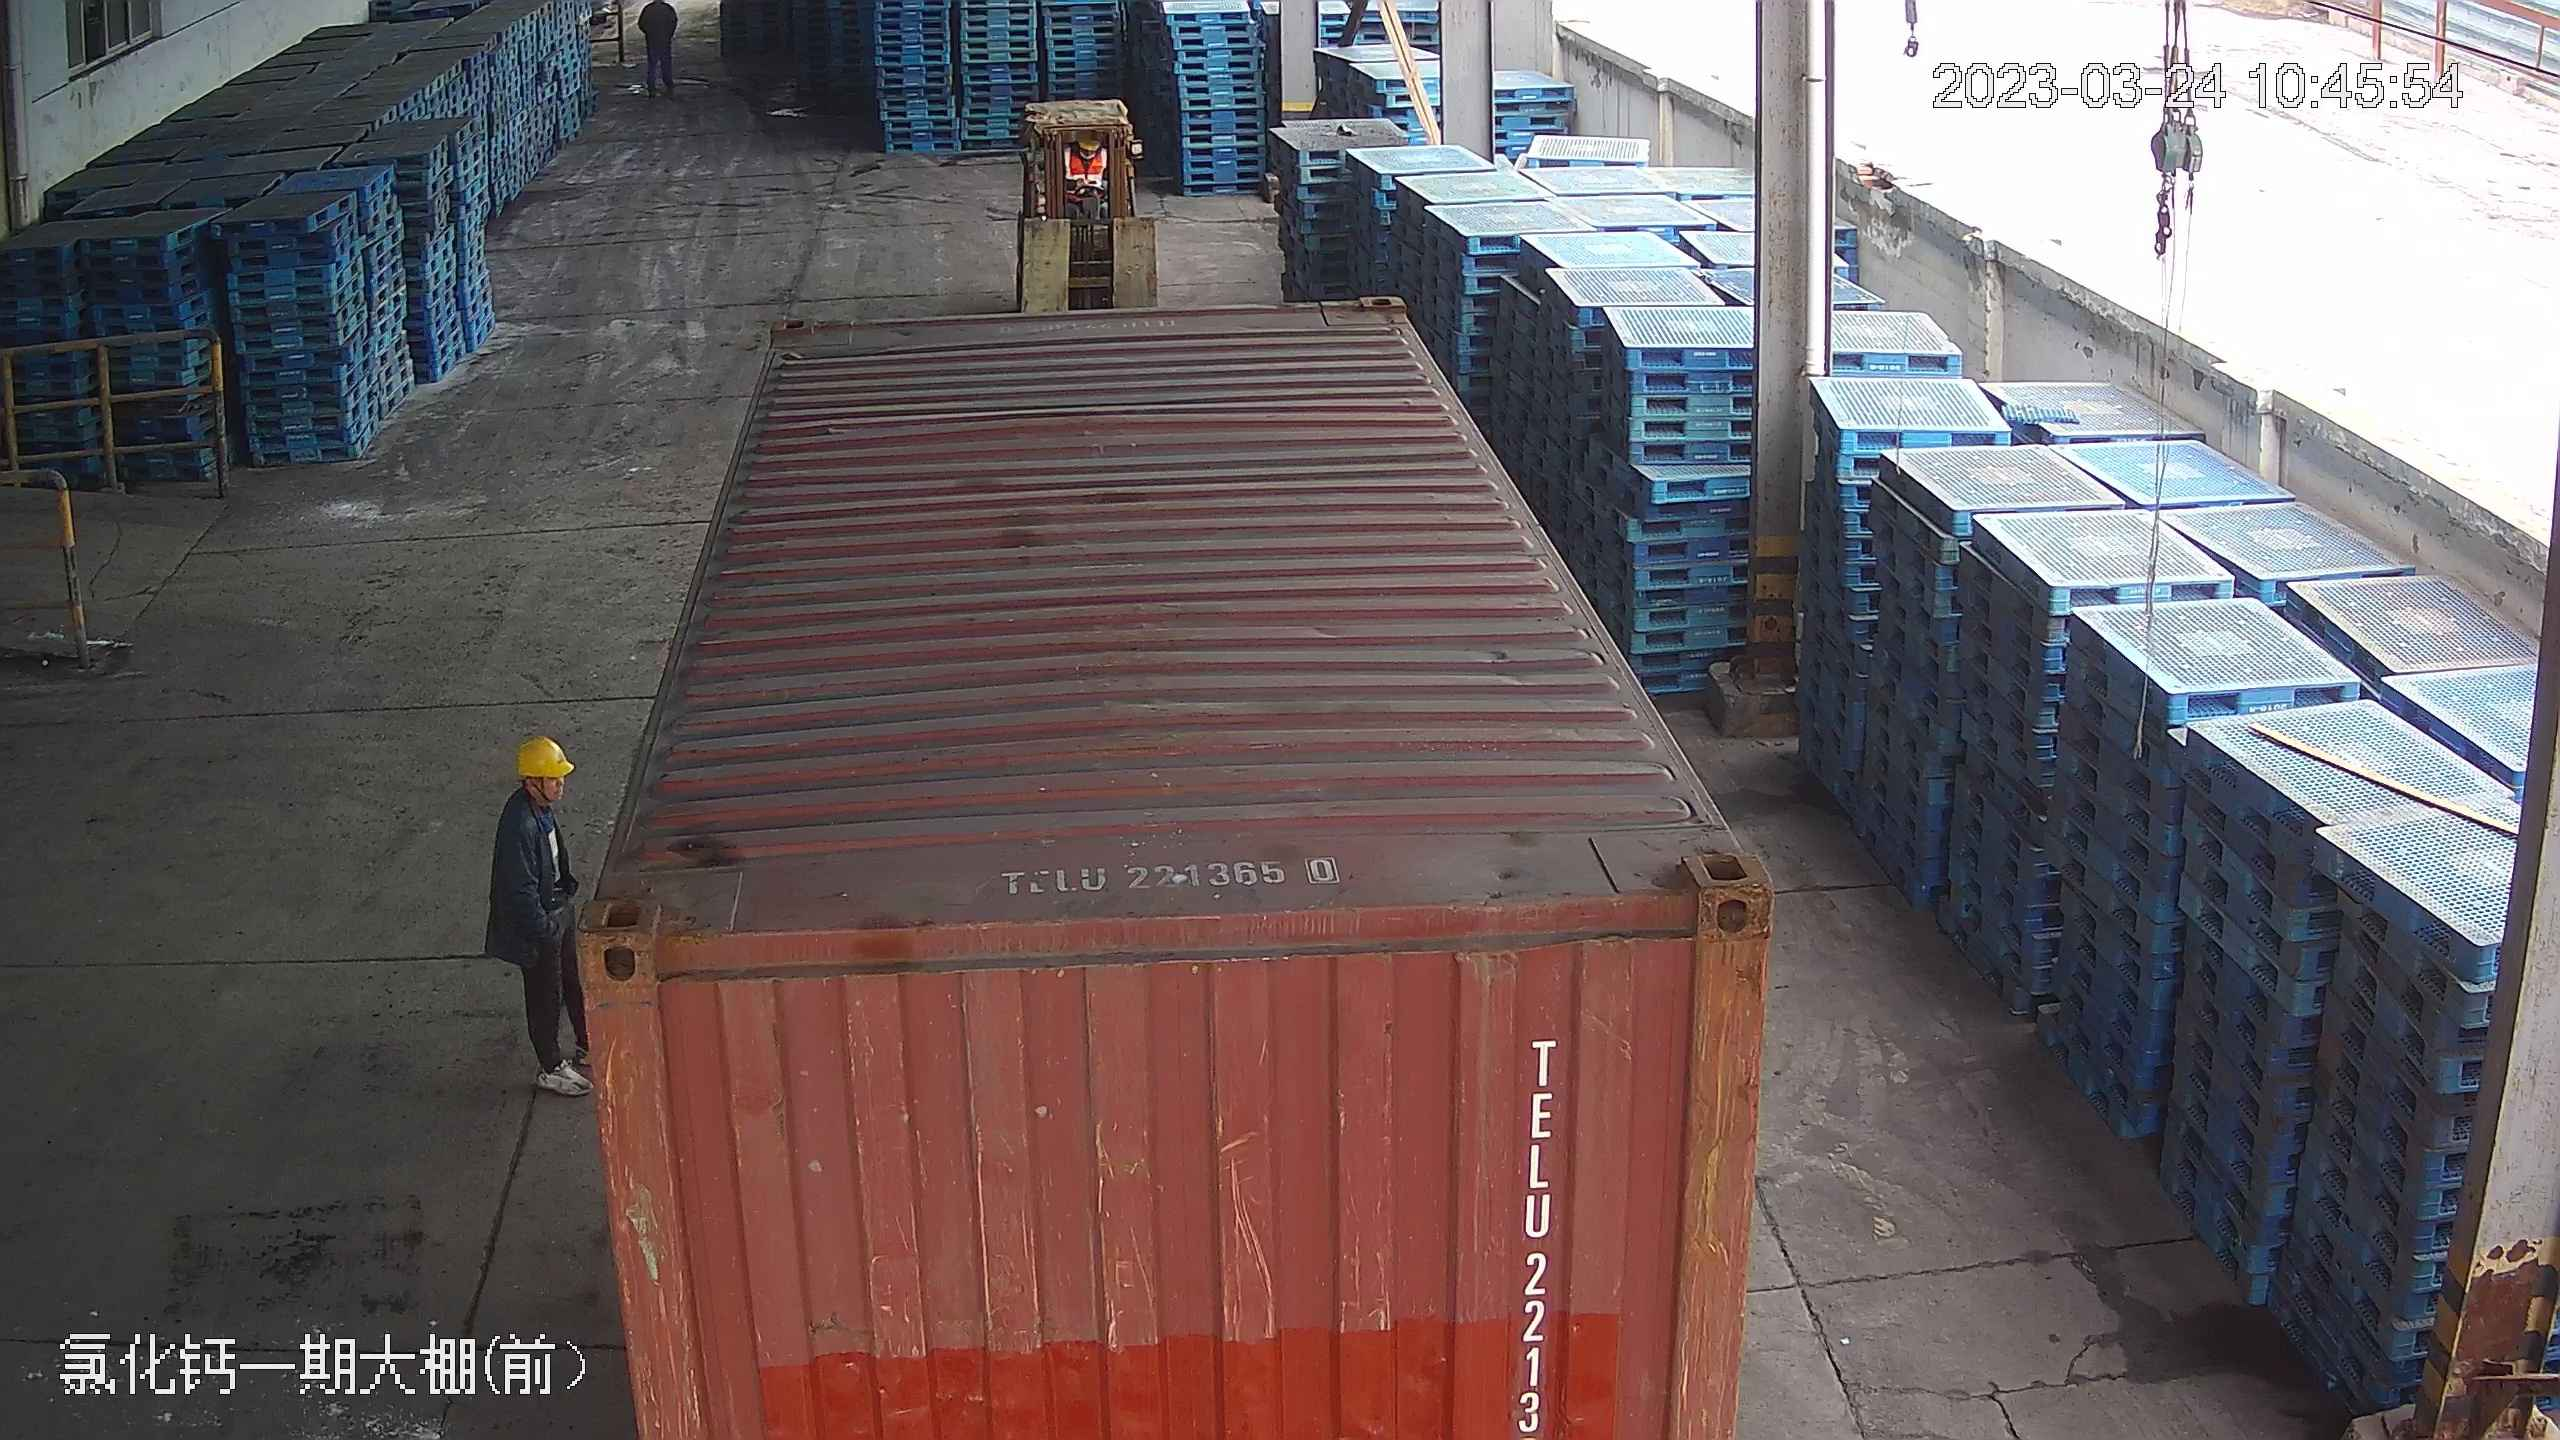head: (493, 734, 575, 849)
helmet: (513, 734, 573, 776)
people: (483, 735, 593, 1086), (637, 1, 685, 92)
truck: (525, 247, 1806, 1440)
